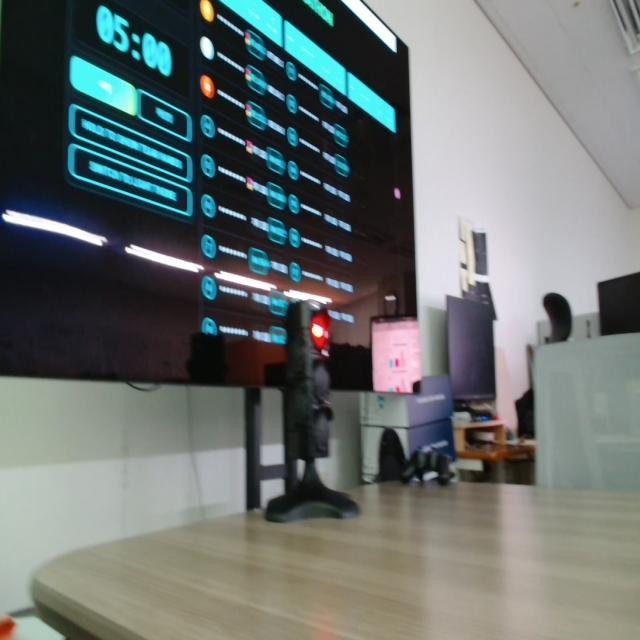red_light: (310, 310, 330, 353)
